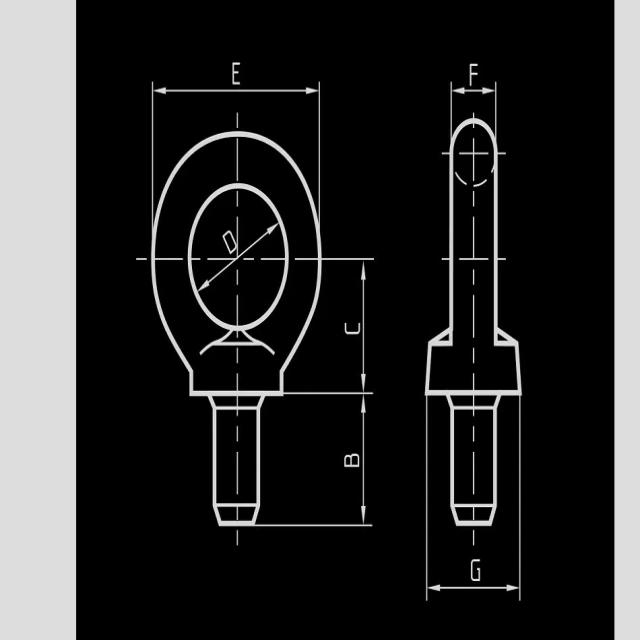marking_line: (286, 373, 378, 531), (269, 399, 377, 530), (287, 385, 374, 530), (145, 72, 324, 128), (420, 529, 523, 609), (327, 250, 379, 398), (420, 399, 448, 616), (503, 400, 527, 604), (448, 79, 499, 117), (147, 81, 159, 198), (315, 79, 322, 215), (489, 81, 502, 119), (450, 77, 462, 118)
